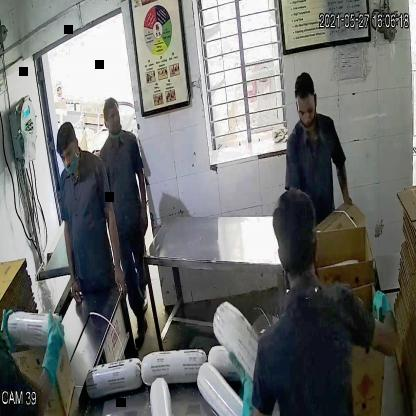no_goggles: (292, 98, 320, 121), (57, 144, 81, 166)
